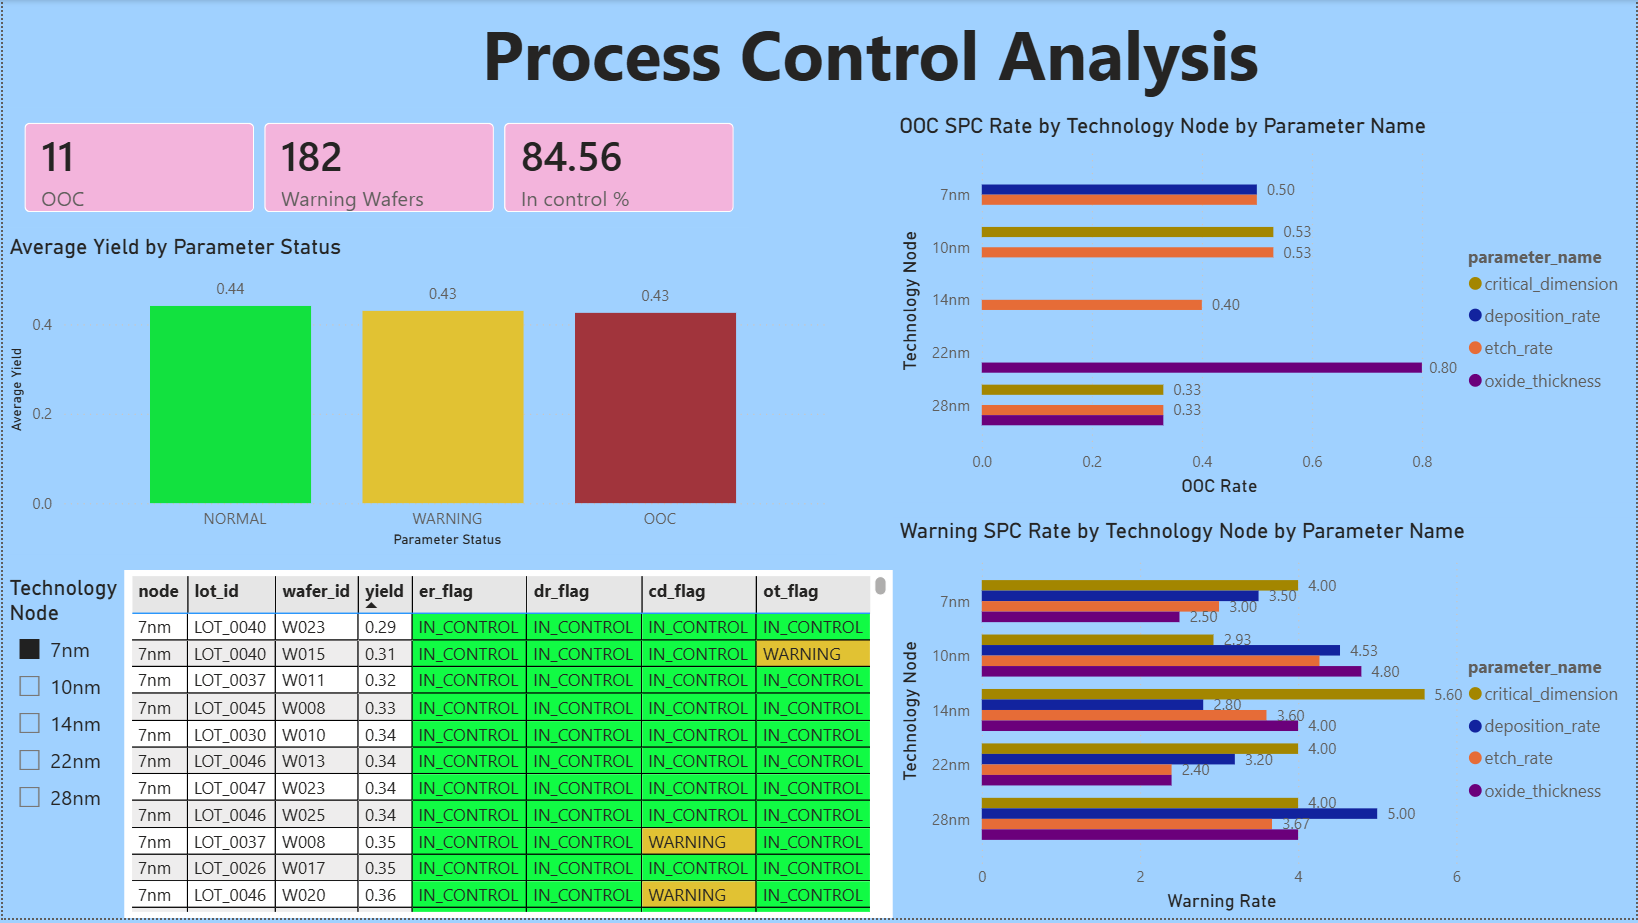

Layout of this report page (visuals, bound fields, positions):
{"tool":"powerbi","page":{"name":"SPC","canvas":[1280,720],"ordinal":2},"visuals":[{"type":"textbox","box":[341.6,0,675.9,88.8],"z":0},{"type":"cardVisual","fields":{"Data":["Measure.OOC","Measure.Warning Wafers","Measure.In control %"]},"box":[0,78.9,590.8,104.8],"z":1000},{"type":"clusteredBarChart","title":"OOC SPC Rate by Technology Node by Parameter Name","fields":{"Category":["spc_summary.technology_node"],"Y":["Avg(spc_summary.status_rate)"],"Series":["spc_summary.parameter_name"]},"box":[697.7,88.4,582.6,305.8],"z":2000},{"type":"clusteredBarChart","title":"Warning SPC Rate by Technology Node by Parameter Name","fields":{"Category":["spc_summary.technology_node"],"Y":["Avg(spc_summary.status_rate)"],"Series":["spc_summary.parameter_name"]},"box":[697.7,405.8,582.6,314],"z":3000},{"type":"columnChart","title":"Average Yield by Parameter Status","fields":{"Y":["Avg(z_score_summary.avg_yield)"],"Category":["z_score_summary.parameter_status"]},"box":[0,183.7,653.5,251.2],"z":4000},{"type":"tableEx","fields":{"Values":["spc_flag_table.technology_node","spc_flag_table.lot_id","spc_flag_table.wafer_id","spc_flag_table.yield","spc_flag_table.er_flag","spc_flag_table.dr_flag","spc_flag_table.cd_flag","spc_flag_table.ot_flag"]},"box":[95.3,446.5,602.3,273.3],"z":5000},{"type":"slicer","title":"Technology Node","fields":{"Values":["spc_flag_table.technology_node"]},"box":[0,450.5,94.8,269.6],"z":6000}]}

Visuals, with their boxes in screenshot pixels (x1, y1, x2, y2), scaled from the page's 1280x720 canvas onto the 1638x923 screenshot:
textbox: (x1=437, y1=0, x2=1302, y2=114)
cardVisual - Measure.OOC x Measure.Warning Wafers: (x1=0, y1=101, x2=756, y2=235)
"OOC SPC Rate by Technology Node by Parameter Name" clusteredBarChart: (x1=893, y1=113, x2=1637, y2=505)
"Warning SPC Rate by Technology Node by Parameter Name" clusteredBarChart: (x1=893, y1=520, x2=1637, y2=922)
"Average Yield by Parameter Status" columnChart: (x1=0, y1=235, x2=836, y2=558)
tableEx - spc_flag_table.technology_node x spc_flag_table.lot_id: (x1=122, y1=572, x2=893, y2=922)
"Technology Node" slicer: (x1=0, y1=578, x2=121, y2=922)
